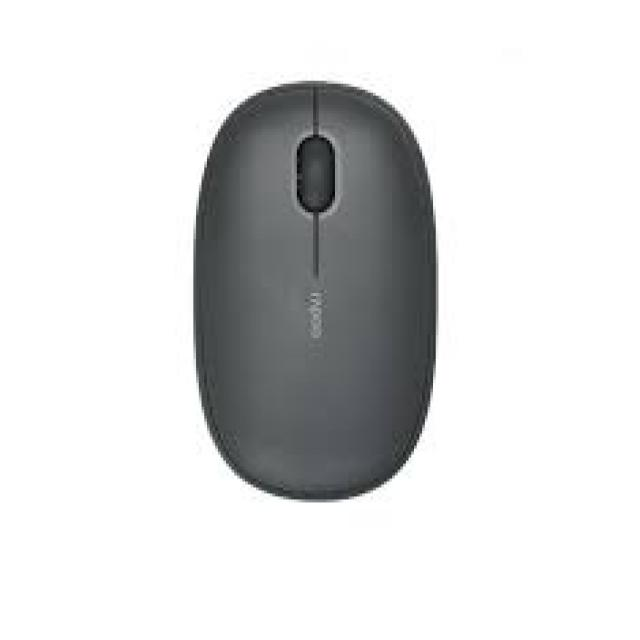others: (177, 42, 474, 499)
